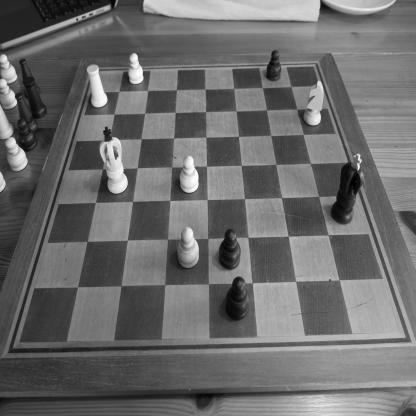black-bishop: (18, 57, 42, 100), (15, 92, 38, 134)
black-king: (330, 152, 364, 224)
black-pawn: (225, 275, 250, 322), (219, 228, 242, 271), (17, 118, 38, 152), (266, 49, 282, 82)
black-rook: (22, 76, 48, 119)
white-king: (98, 126, 128, 195)
white-knight: (303, 80, 324, 128)
white-pawn: (176, 225, 200, 270), (5, 137, 29, 172), (179, 154, 199, 194), (1, 78, 18, 111), (128, 52, 144, 85), (1, 53, 17, 85)
white-rook: (86, 63, 108, 108)
